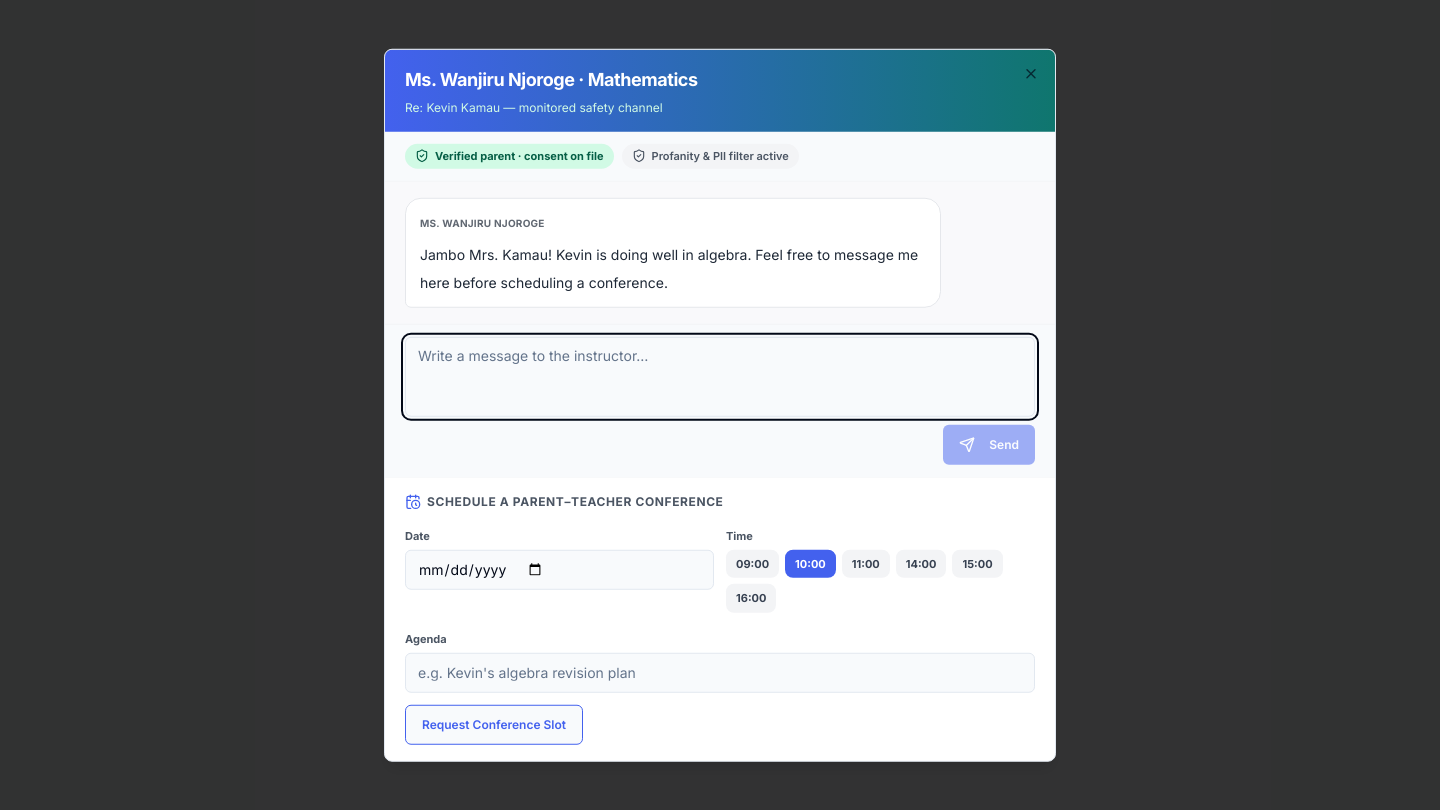
Test: ParentTeacherChatModal Component › sends a parent message into the thread and clears the draft
In the text box named "Message composer": {"x": 720, "y": 376} [405,336,1035,416], type "Thank you, we revised algebra at home this evening."
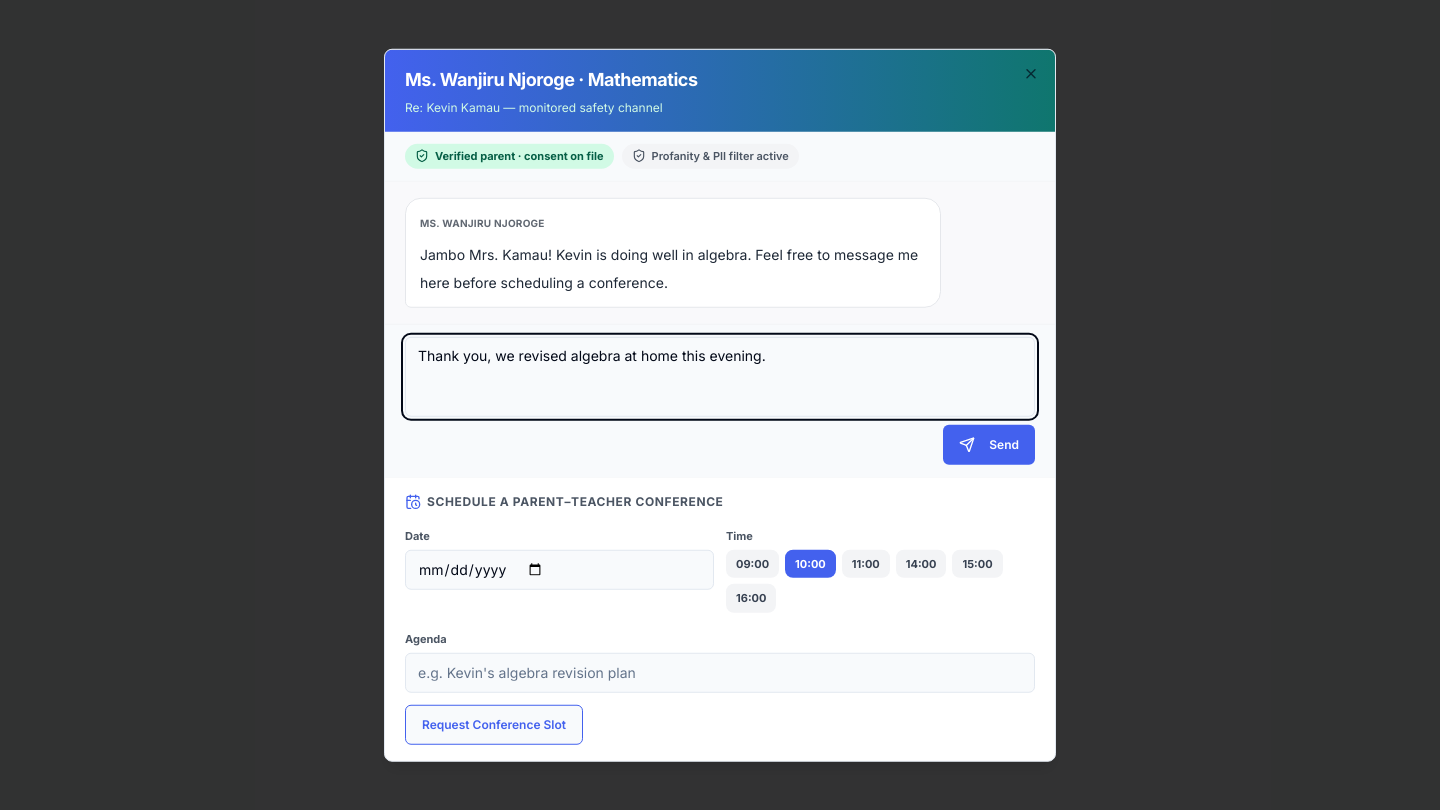
Click the button "Send": {"x": 989, "y": 444} [943,424,1035,464]
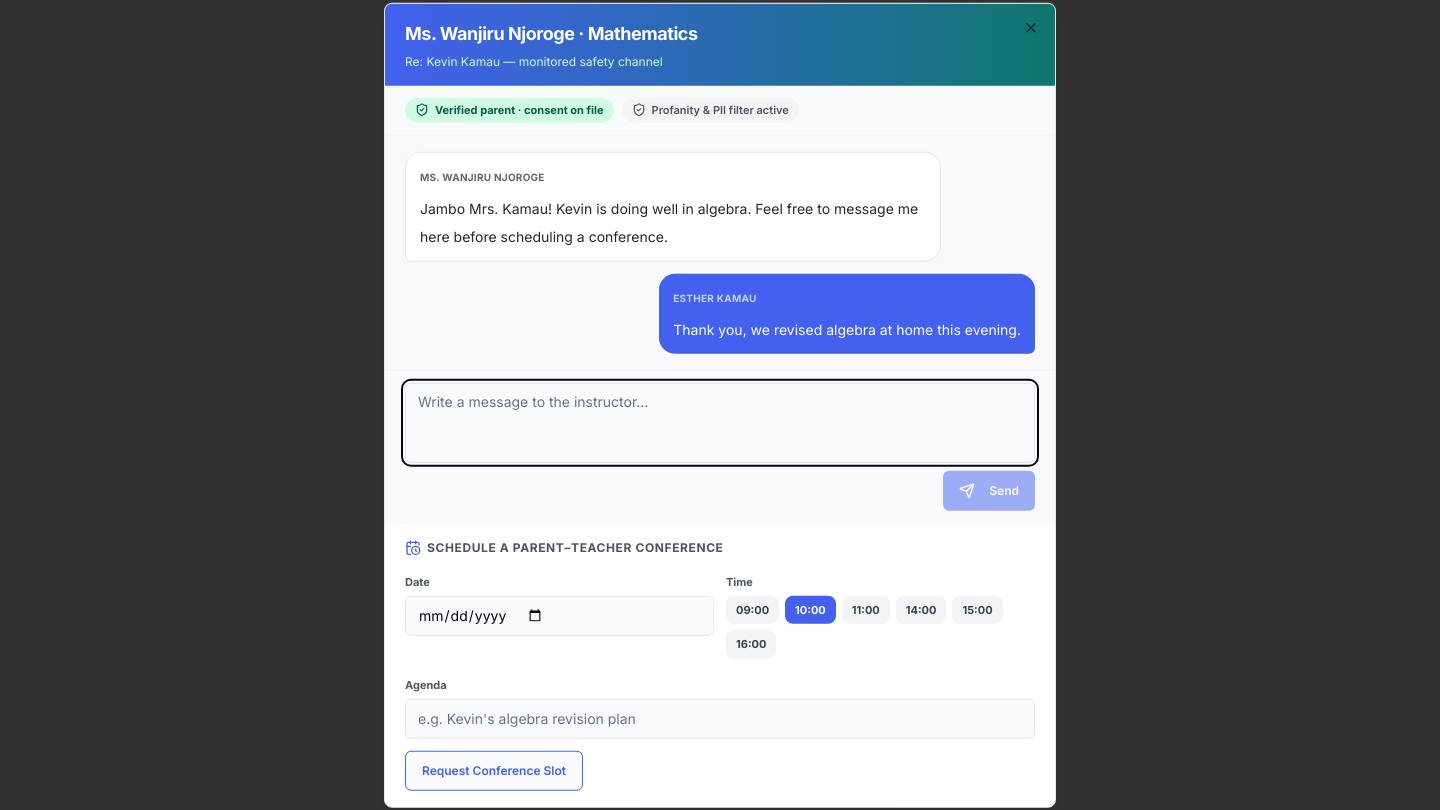
Expected: the text "Thank you, we revised algebra at home this evening." is shown, [673,315,1021,343]
Expected: the text box named "Message composer" is empty, [405,382,1035,462]
